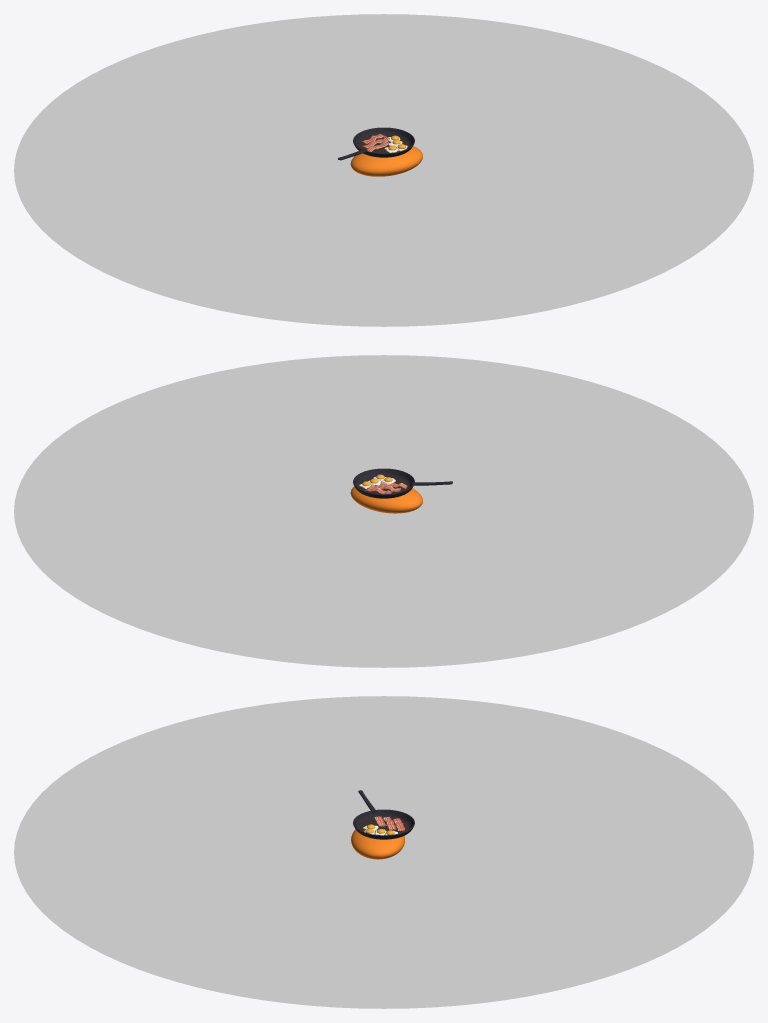
Rendered from hearth.glb.
3 renders of one model, top to bottom at view 1: azimuth 30°, elevation 25°; view 2: azimuth 150°, elevation 25°; view 3: azimuth 270°, elevation 25°, orthographic.
Visible parts, largest first — view 1: HearthStone, SpiritBody, Pan; view 2: HearthStone, SpiritBody, Pan; view 3: HearthStone, SpiritBody, Pan.
Boxes of the visible parts, bbox=[...] form: HearthStone: bbox=[14, 14, 753, 326]; SpiritBody: bbox=[350, 146, 422, 176]; Pan: bbox=[353, 127, 414, 157]; HearthStone: bbox=[14, 355, 753, 667]; SpiritBody: bbox=[350, 486, 422, 513]; Pan: bbox=[353, 468, 414, 498]; HearthStone: bbox=[14, 696, 753, 1008]; SpiritBody: bbox=[351, 829, 404, 859]; Pan: bbox=[353, 809, 414, 839].
Bounding box in the file's own units: 25.2 × 4.1 × 25.2.
13 materials, 7 textured.
